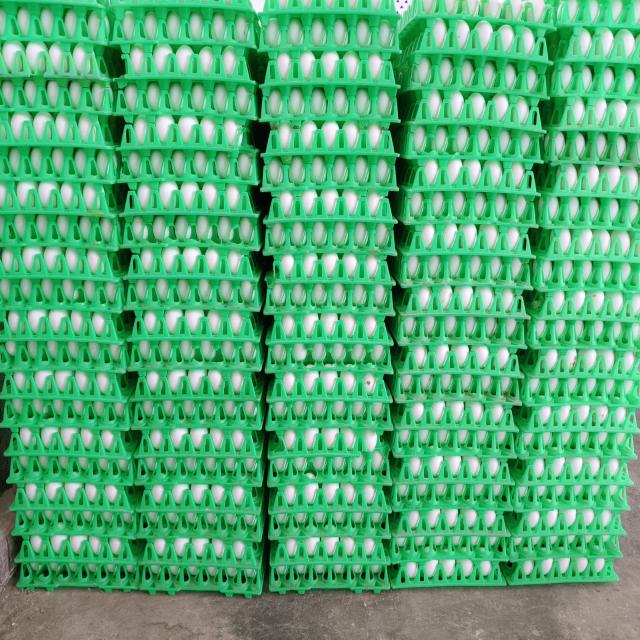egg_tray: (504, 24, 640, 583), (136, 278, 264, 595), (2, 211, 133, 502), (528, 60, 640, 348), (2, 243, 135, 481), (116, 3, 258, 223), (136, 359, 264, 595), (0, 140, 124, 370), (120, 116, 262, 308), (125, 190, 263, 370), (136, 400, 264, 594), (392, 124, 536, 293), (0, 80, 121, 281), (9, 399, 137, 589), (116, 45, 259, 213), (505, 404, 637, 582), (391, 401, 515, 586), (265, 190, 393, 369), (119, 84, 259, 244), (395, 129, 536, 284), (120, 116, 262, 266), (267, 371, 390, 540), (114, 2, 257, 147), (128, 278, 264, 428), (512, 349, 636, 512), (268, 427, 389, 590), (262, 49, 396, 195), (395, 89, 542, 222), (397, 2, 548, 131), (114, 3, 257, 138), (0, 147, 123, 301), (394, 153, 535, 287), (123, 181, 262, 316), (115, 75, 259, 205), (123, 182, 263, 311), (123, 181, 262, 310), (397, 2, 548, 118), (538, 59, 640, 230), (130, 299, 264, 428), (398, 2, 548, 116), (392, 373, 514, 513), (392, 373, 518, 508), (0, 180, 126, 313), (121, 150, 262, 268), (0, 246, 132, 372), (0, 83, 123, 217), (397, 0, 551, 107), (390, 452, 512, 587), (261, 2, 397, 123), (130, 309, 263, 430), (504, 456, 630, 583), (8, 416, 138, 537), (266, 189, 394, 311), (395, 119, 539, 226), (268, 190, 392, 313), (267, 360, 389, 485), (392, 400, 514, 525), (265, 253, 392, 370), (129, 280, 264, 390), (137, 479, 264, 595), (12, 476, 141, 590), (137, 479, 264, 594), (3, 370, 133, 481), (269, 472, 389, 592), (18, 533, 262, 592), (138, 479, 264, 593), (511, 399, 637, 513), (138, 479, 264, 592), (531, 165, 640, 294), (11, 479, 138, 589), (398, 89, 542, 186), (11, 479, 139, 587), (0, 202, 123, 313), (266, 367, 390, 477), (118, 114, 259, 210), (398, 1, 550, 90), (392, 399, 514, 509), (267, 368, 390, 477), (120, 120, 258, 217), (269, 254, 390, 364), (390, 477, 510, 587), (0, 206, 124, 312), (550, 2, 640, 138), (262, 109, 396, 200), (0, 78, 117, 182), (127, 278, 263, 367), (396, 94, 540, 176), (392, 316, 521, 403), (550, 2, 640, 126), (397, 39, 547, 113), (0, 308, 130, 391), (260, 51, 398, 129), (133, 368, 264, 450), (262, 116, 396, 196), (543, 58, 640, 165), (543, 64, 640, 169), (391, 222, 530, 294), (503, 503, 628, 583), (0, 298, 132, 373), (537, 163, 640, 259), (0, 37, 114, 121), (259, 0, 399, 68), (121, 185, 263, 252), (391, 400, 516, 476), (390, 507, 508, 587), (268, 368, 390, 445), (501, 508, 624, 584), (504, 506, 625, 582), (128, 308, 265, 375), (125, 246, 262, 313), (264, 189, 395, 258), (268, 305, 390, 379), (400, 0, 553, 59), (0, 2, 113, 79), (0, 140, 118, 213), (390, 284, 527, 346), (269, 471, 390, 540), (135, 425, 265, 489), (7, 421, 139, 484), (268, 474, 390, 542), (0, 2, 109, 78), (110, 0, 258, 55), (4, 370, 133, 433), (115, 78, 257, 135), (390, 343, 522, 403), (136, 482, 266, 542), (520, 340, 638, 406), (138, 536, 264, 597), (390, 399, 520, 458), (266, 313, 391, 373), (11, 480, 140, 538), (118, 38, 254, 93), (12, 478, 138, 537), (16, 533, 142, 591), (267, 427, 389, 486), (391, 451, 513, 510), (269, 252, 393, 310), (267, 368, 391, 426), (543, 97, 640, 171), (520, 348, 640, 406), (269, 535, 389, 593), (514, 404, 637, 460), (520, 348, 638, 406), (549, 4, 640, 79), (525, 291, 640, 350), (517, 402, 636, 459), (509, 456, 632, 511), (543, 94, 640, 163), (261, 79, 399, 127), (539, 163, 640, 226), (137, 304, 259, 356), (536, 177, 640, 238), (262, 149, 396, 195), (391, 532, 503, 587), (399, 157, 536, 201), (264, 270, 393, 315), (390, 537, 506, 586), (272, 362, 363, 420), (0, 178, 124, 220), (0, 74, 114, 119), (0, 0, 109, 46), (509, 537, 619, 582), (16, 484, 107, 533), (390, 551, 505, 588), (260, 0, 398, 28), (390, 557, 505, 588), (408, 345, 519, 374), (303, 435, 384, 474), (37, 421, 128, 454), (551, 130, 637, 164), (552, 0, 640, 33), (402, 344, 514, 369), (404, 456, 501, 475), (30, 215, 105, 238), (5, 371, 72, 388), (175, 219, 212, 242), (238, 221, 259, 250), (425, 125, 447, 150), (580, 4, 622, 17), (478, 375, 503, 395), (475, 0, 510, 13), (434, 345, 459, 363), (450, 126, 473, 145), (583, 321, 612, 336), (322, 283, 345, 301), (348, 283, 373, 299), (554, 233, 573, 254), (95, 290, 122, 304), (468, 94, 486, 115), (528, 379, 558, 391), (272, 437, 289, 458), (160, 344, 180, 361), (56, 114, 70, 138), (472, 346, 496, 360), (35, 372, 53, 390), (187, 369, 206, 386), (574, 62, 597, 76), (562, 383, 578, 402), (14, 281, 36, 294), (583, 3, 612, 12), (22, 41, 42, 54), (282, 460, 299, 475), (15, 426, 36, 438), (558, 3, 579, 15), (88, 377, 106, 390), (618, 171, 633, 186), (345, 78, 361, 92), (369, 371, 381, 389), (168, 370, 186, 382), (510, 543, 521, 562), (148, 128, 164, 141), (489, 95, 506, 107), (311, 314, 326, 327), (155, 152, 171, 164), (356, 401, 368, 417), (28, 391, 42, 404), (217, 228, 230, 242), (76, 372, 88, 387), (244, 147, 255, 163), (369, 260, 385, 271), (54, 371, 70, 382), (180, 343, 189, 362), (101, 505, 110, 524), (153, 116, 170, 126), (556, 73, 570, 85), (25, 484, 36, 499), (627, 354, 636, 372), (480, 3, 500, 11), (35, 114, 47, 127), (74, 372, 88, 383), (184, 436, 195, 450), (176, 280, 190, 291), (410, 119, 424, 130), (182, 124, 190, 143), (138, 334, 148, 349), (561, 538, 573, 550), (174, 151, 184, 165), (452, 2, 466, 12), (158, 281, 167, 296), (151, 190, 160, 205), (47, 149, 56, 164), (83, 291, 95, 301), (206, 437, 216, 449), (580, 539, 590, 551), (155, 281, 167, 291), (400, 131, 415, 139), (207, 371, 220, 380), (394, 373, 402, 387), (211, 429, 221, 440), (195, 152, 206, 162), (411, 197, 420, 209), (24, 142, 33, 154), (178, 247, 193, 254), (407, 351, 415, 364), (569, 378, 582, 386), (125, 121, 138, 129), (61, 455, 71, 465), (448, 175, 458, 185), (528, 537, 539, 546), (136, 282, 145, 293), (93, 144, 104, 153), (569, 167, 577, 179), (406, 171, 414, 183), (128, 131, 136, 143), (171, 440, 181, 449), (155, 131, 164, 141), (51, 42, 60, 52), (502, 377, 517, 383), (234, 372, 244, 381), (315, 299, 323, 310), (205, 281, 216, 289), (47, 82, 59, 89), (564, 331, 576, 338), (115, 374, 122, 386), (17, 215, 24, 227), (605, 67, 621, 72), (550, 538, 558, 548), (211, 429, 219, 439), (599, 247, 609, 255), (423, 374, 436, 380), (460, 375, 473, 381), (140, 116, 147, 127), (197, 434, 202, 449), (382, 286, 390, 295), (512, 546, 520, 555), (472, 138, 481, 146), (206, 281, 215, 289), (232, 258, 238, 270), (376, 440, 384, 449), (7, 399, 16, 407), (503, 471, 510, 481), (188, 317, 198, 324), (188, 158, 195, 168), (525, 3, 532, 13), (48, 491, 55, 501), (69, 157, 76, 167), (16, 440, 23, 450), (119, 5, 130, 11), (459, 141, 465, 152), (42, 281, 50, 289), (8, 397, 16, 405), (184, 183, 192, 191), (405, 375, 413, 383), (147, 371, 155, 379), (181, 5, 188, 14), (490, 107, 497, 116), (137, 292, 144, 301), (420, 347, 427, 356), (361, 390, 368, 399), (604, 169, 616, 174), (498, 516, 503, 528), (283, 256, 293, 262), (59, 311, 65, 321), (2, 289, 9, 297), (177, 280, 184, 288), (405, 375, 413, 382), (178, 462, 185, 470), (502, 3, 509, 11), (491, 264, 499, 271), (368, 299, 373, 310), (63, 8, 74, 13), (546, 239, 551, 250), (161, 6, 170, 12), (184, 134, 190, 143), (155, 218, 161, 227), (516, 132, 522, 141), (228, 135, 234, 144), (136, 125, 141, 135), (201, 292, 208, 299), (614, 323, 621, 330), (349, 15, 356, 22), (357, 345, 365, 351), (598, 563, 604, 571), (0, 56, 6, 64), (540, 553, 548, 559), (170, 124, 178, 130), (136, 281, 142, 289), (162, 225, 168, 233), (492, 511, 496, 523), (367, 328, 372, 337), (84, 122, 93, 127), (292, 285, 296, 296), (188, 123, 199, 127), (123, 132, 127, 143), (81, 460, 88, 466), (2, 290, 8, 297), (163, 465, 169, 472), (468, 146, 475, 152), (415, 145, 421, 152), (109, 495, 115, 502), (50, 126, 56, 133), (598, 166, 604, 173), (244, 229, 251, 235), (30, 190, 37, 196), (243, 30, 248, 38), (54, 5, 62, 10), (151, 152, 156, 160), (572, 248, 576, 258), (352, 450, 360, 455), (274, 10, 282, 15), (397, 374, 402, 382), (331, 379, 335, 388), (576, 321, 582, 327), (64, 294, 70, 300), (442, 130, 446, 139), (523, 140, 529, 146), (561, 172, 567, 178), (464, 345, 468, 354), (372, 363, 378, 369), (24, 291, 29, 298), (524, 554, 531, 559), (514, 361, 517, 372), (602, 86, 606, 94), (556, 320, 564, 324), (6, 252, 10, 260), (182, 183, 190, 187), (127, 569, 135, 573), (299, 411, 304, 417), (245, 23, 250, 29), (325, 331, 330, 337), (483, 84, 488, 90), (494, 539, 499, 545), (38, 299, 42, 306), (330, 327, 334, 334), (504, 349, 508, 356), (222, 206, 229, 210), (562, 67, 566, 74), (284, 264, 288, 271), (528, 136, 531, 145), (292, 469, 297, 474), (32, 85, 37, 90), (579, 567, 584, 572), (381, 262, 386, 267), (59, 133, 64, 138), (534, 131, 539, 136), (254, 305, 259, 310), (34, 407, 39, 412), (388, 33, 393, 38), (132, 86, 137, 91), (278, 558, 283, 563), (286, 349, 291, 354), (612, 174, 617, 179), (205, 392, 210, 397), (602, 79, 606, 85), (54, 295, 60, 299), (69, 83, 73, 89), (251, 465, 255, 471), (287, 316, 293, 320), (180, 124, 184, 130), (286, 331, 290, 337), (40, 55, 44, 61), (533, 538, 537, 544), (440, 3, 444, 9), (125, 508, 131, 512), (622, 166, 630, 169), (82, 154, 86, 160), (461, 287, 469, 290), (562, 86, 568, 90), (34, 57, 37, 65), (96, 374, 103, 377), (39, 383, 46, 386), (118, 531, 125, 534), (185, 294, 192, 297), (301, 453, 304, 460), (394, 538, 397, 545), (257, 394, 261, 399), (458, 21, 463, 25), (185, 469, 190, 473), (551, 540, 556, 544), (471, 130, 476, 134), (624, 9, 629, 13), (142, 122, 147, 126), (136, 282, 140, 287), (36, 114, 41, 118), (252, 238, 256, 243), (421, 274, 426, 278), (531, 130, 536, 134), (390, 71, 392, 81), (438, 393, 442, 398), (572, 63, 578, 66), (57, 419, 60, 425), (570, 326, 576, 329), (504, 25, 510, 28), (161, 183, 167, 186), (634, 390, 637, 396), (629, 5, 632, 11), (158, 302, 164, 305), (603, 236, 606, 242), (106, 158, 109, 164), (250, 206, 253, 212), (40, 183, 46, 186), (132, 558, 135, 564), (583, 211, 586, 217), (138, 404, 144, 407), (54, 401, 62, 403), (189, 353, 193, 357), (140, 341, 144, 345), (584, 86, 588, 90), (558, 7, 562, 11), (209, 433, 213, 437), (522, 106, 524, 114), (419, 137, 423, 141), (47, 485, 51, 489), (390, 25, 394, 29), (305, 123, 313, 125), (166, 129, 168, 137), (34, 322, 36, 330), (520, 283, 528, 285), (470, 274, 474, 278), (372, 43, 376, 47), (306, 17, 310, 21), (607, 139, 610, 144), (633, 65, 636, 70), (208, 282, 211, 287), (316, 403, 319, 408), (228, 186, 231, 191), (172, 133, 175, 138), (431, 76, 436, 79), (143, 249, 148, 252), (54, 407, 57, 412), (133, 233, 138, 236), (172, 134, 175, 139), (572, 354, 575, 359), (514, 282, 517, 287), (476, 265, 479, 270), (494, 145, 497, 150), (528, 138, 531, 143), (539, 16, 544, 19), (536, 322, 543, 324), (633, 77, 635, 84), (542, 4, 544, 11), (159, 371, 163, 374), (194, 282, 198, 285), (46, 295, 49, 299), (176, 441, 179, 445), (165, 442, 168, 446), (386, 347, 388, 353), (313, 295, 317, 298), (170, 329, 173, 333), (574, 549, 577, 553), (529, 542, 532, 546), (510, 150, 513, 154), (503, 149, 506, 153), (530, 25, 534, 28), (440, 73, 442, 79), (631, 285, 634, 289), (179, 86, 181, 92), (171, 125, 177, 127), (68, 371, 72, 374), (94, 126, 97, 130), (26, 114, 30, 117), (607, 140, 611, 143), (119, 93, 122, 97), (231, 206, 234, 210), (54, 329, 58, 332), (76, 201, 80, 204), (556, 86, 559, 90), (108, 226, 112, 229), (289, 55, 292, 59), (96, 154, 97, 165), (417, 379, 422, 381), (204, 461, 206, 466), (386, 268, 388, 273), (492, 147, 494, 152), (183, 116, 188, 118), (62, 161, 64, 166), (156, 95, 158, 100), (167, 94, 169, 99), (200, 223, 202, 228), (29, 59, 31, 64), (281, 43, 286, 45), (360, 389, 362, 394), (378, 353, 383, 355), (293, 350, 295, 355), (423, 376, 428, 378), (25, 292, 28, 295), (64, 256, 67, 259), (189, 463, 192, 466), (15, 134, 18, 137), (426, 147, 429, 150), (541, 16, 544, 19), (48, 116, 51, 119), (236, 238, 239, 241), (137, 224, 140, 227), (205, 232, 208, 235), (212, 220, 215, 223), (13, 219, 16, 222), (378, 434, 381, 437), (612, 186, 615, 189), (14, 374, 17, 377), (390, 220, 392, 224), (41, 87, 43, 91), (316, 371, 318, 375), (289, 371, 293, 373), (10, 268, 14, 270), (402, 364, 406, 366), (458, 203, 462, 205), (436, 133, 438, 137), (69, 54, 71, 58), (600, 545, 602, 549), (626, 13, 628, 17), (109, 530, 113, 532), (180, 293, 182, 297), (101, 87, 103, 91), (411, 347, 415, 349), (190, 221, 192, 225), (400, 140, 402, 144), (499, 516, 501, 520), (514, 387, 516, 391), (368, 318, 375, 319), (552, 156, 555, 158), (583, 150, 586, 152), (551, 93, 553, 96), (353, 389, 355, 392), (207, 304, 210, 306), (102, 295, 104, 298), (6, 273, 9, 275), (619, 3, 622, 5), (458, 130, 461, 132), (250, 27, 252, 30), (199, 3, 201, 6), (0, 193, 2, 196), (352, 316, 354, 319), (405, 98, 408, 100), (75, 131, 77, 134), (215, 260, 217, 263), (192, 329, 195, 331), (137, 313, 140, 315), (212, 158, 214, 161), (510, 557, 513, 559), (586, 398, 588, 401), (110, 479, 113, 481), (40, 268, 43, 270), (159, 117, 162, 119), (68, 431, 74, 432), (221, 282, 224, 284), (17, 400, 20, 402), (592, 170, 594, 173), (551, 149, 553, 152), (384, 36, 387, 38), (12, 145, 14, 148), (469, 287, 472, 289), (125, 116, 127, 119), (207, 187, 209, 190), (31, 200, 33, 203), (364, 449, 367, 451), (352, 443, 355, 445), (310, 584, 312, 587), (344, 583, 346, 586), (361, 387, 363, 390), (274, 238, 277, 240), (98, 374, 104, 375), (123, 172, 126, 174), (12, 300, 17, 301), (504, 462, 505, 467), (120, 284, 121, 289), (628, 141, 633, 142), (176, 238, 181, 239), (631, 68, 632, 73), (274, 18, 279, 19), (129, 549, 134, 550), (38, 296, 40, 298), (77, 421, 79, 423), (158, 282, 160, 284), (67, 93, 68, 97), (317, 415, 319, 417), (529, 326, 531, 328), (33, 281, 35, 283), (423, 36, 425, 38), (401, 206, 402, 210), (222, 458, 224, 460), (521, 102, 523, 104), (178, 137, 180, 139), (362, 309, 366, 310), (23, 7, 25, 9), (496, 131, 500, 132), (523, 85, 525, 87), (536, 2, 540, 3), (537, 150, 538, 154), (192, 355, 194, 357), (593, 17, 595, 19), (8, 253, 10, 255), (51, 122, 53, 124), (587, 169, 588, 173), (385, 29, 387, 31), (408, 531, 410, 533), (513, 327, 515, 329), (94, 197, 95, 201), (237, 257, 239, 259), (175, 229, 177, 231), (212, 221, 214, 223), (572, 459, 576, 460), (190, 250, 192, 252), (222, 239, 224, 241), (205, 237, 207, 239), (200, 231, 202, 233), (103, 220, 105, 222), (434, 265, 438, 266), (534, 126, 538, 127), (318, 453, 320, 455), (346, 584, 348, 586), (376, 85, 380, 86), (420, 379, 422, 381), (28, 374, 30, 376), (41, 289, 42, 292), (7, 393, 8, 396), (310, 292, 313, 293), (575, 3, 578, 4), (55, 329, 58, 330), (22, 380, 23, 383), (151, 445, 152, 448), (154, 436, 155, 439), (177, 431, 180, 432), (516, 103, 517, 106), (563, 578, 566, 579), (278, 318, 281, 319), (326, 309, 329, 310), (325, 268, 326, 271), (149, 329, 152, 330), (526, 3, 529, 4), (221, 283, 224, 284), (534, 249, 535, 252), (198, 249, 199, 252), (98, 86, 101, 87), (395, 37, 396, 40), (410, 531, 413, 532), (467, 509, 468, 512), (167, 267, 170, 268), (538, 132, 541, 133), (98, 329, 101, 330), (459, 176, 462, 177), (603, 40, 604, 43), (435, 553, 438, 554), (354, 362, 357, 363), (316, 255, 317, 258), (298, 9, 299, 12), (218, 134, 219, 137), (611, 151, 613, 152), (638, 54, 640, 55), (638, 45, 640, 46), (24, 401, 26, 402), (181, 351, 182, 353), (201, 281, 203, 282), (278, 231, 279, 233), (268, 231, 269, 233), (272, 227, 273, 229), (100, 107, 102, 108), (27, 81, 29, 82), (310, 381, 311, 383), (306, 305, 308, 306), (307, 298, 308, 300), (75, 295, 76, 297), (618, 80, 620, 81), (434, 394, 436, 395), (165, 205, 167, 206), (156, 195, 157, 197), (158, 454, 159, 456), (272, 347, 274, 348), (285, 317, 286, 319), (306, 316, 308, 317), (402, 100, 404, 101), (574, 576, 576, 577), (161, 127, 162, 129), (162, 125, 164, 126), (282, 309, 284, 310), (125, 132, 126, 134), (520, 576, 522, 577), (545, 572, 546, 574), (524, 554, 526, 555), (476, 150, 477, 152), (476, 6, 477, 8), (534, 549, 536, 550), (527, 398, 529, 399), (194, 118, 196, 119), (238, 288, 239, 290), (223, 282, 224, 284), (172, 278, 174, 279), (51, 431, 53, 432), (196, 283, 197, 285), (18, 409, 20, 410), (80, 122, 82, 123), (56, 160, 57, 162), (89, 151, 91, 152), (55, 145, 57, 146), (104, 480, 106, 481), (131, 451, 132, 453), (318, 61, 320, 62), (180, 185, 182, 186), (154, 234, 156, 235), (129, 233, 131, 234), (221, 229, 222, 231), (244, 207, 246, 208), (222, 198, 224, 199), (139, 125, 141, 126), (152, 119, 153, 121), (50, 201, 51, 203), (96, 194, 97, 196), (596, 402, 598, 403), (14, 226, 15, 228), (612, 187, 614, 188), (432, 275, 433, 277), (385, 471, 386, 473), (349, 584, 350, 586), (610, 78, 612, 79), (578, 72, 579, 74), (376, 18, 378, 19), (294, 10, 295, 12), (284, 9, 286, 10), (294, 7, 295, 9), (67, 313, 68, 315), (50, 311, 52, 312), (167, 413, 168, 415), (60, 291, 61, 292), (69, 385, 70, 386), (29, 89, 30, 90), (76, 83, 77, 84), (25, 83, 26, 84), (556, 332, 557, 333), (107, 278, 108, 279), (633, 456, 634, 457), (185, 20, 186, 21), (253, 14, 254, 15), (174, 467, 175, 468), (322, 345, 323, 346), (405, 102, 406, 103), (609, 578, 610, 579), (381, 274, 382, 275), (518, 543, 519, 544), (596, 25, 597, 26), (87, 524, 88, 525), (27, 505, 28, 506), (190, 129, 191, 130), (167, 254, 168, 255), (205, 238, 206, 239), (58, 157, 59, 158), (89, 145, 90, 146), (36, 143, 37, 144), (421, 357, 422, 358), (21, 141, 22, 142), (245, 167, 246, 168), (585, 516, 586, 517), (516, 478, 517, 479), (138, 201, 139, 202), (584, 87, 585, 88), (629, 34, 630, 35), (127, 476, 128, 477), (462, 189, 463, 190), (461, 185, 462, 186), (580, 238, 581, 239), (449, 258, 450, 259), (427, 127, 428, 128), (356, 469, 357, 470), (345, 467, 346, 468), (296, 458, 297, 459), (338, 447, 339, 448), (192, 49, 193, 50), (340, 396, 341, 397), (365, 402, 366, 403), (358, 387, 359, 388), (274, 367, 275, 368), (383, 311, 384, 312), (323, 198, 324, 199), (582, 93, 583, 94), (265, 18, 266, 19), (520, 3, 521, 4), (203, 243, 204, 244), (9, 411, 10, 412), (234, 378, 235, 379), (218, 132, 219, 133), (623, 156, 623, 157), (632, 151, 632, 152), (227, 394, 228, 394), (170, 394, 170, 394), (183, 354, 183, 354), (138, 337, 140, 337), (310, 400, 310, 401), (312, 394, 312, 394), (287, 383, 288, 383), (301, 296, 301, 297), (300, 292, 302, 292), (316, 286, 317, 286), (301, 130, 301, 130), (96, 283, 97, 283), (283, 291, 283, 292), (210, 205, 210, 205), (187, 205, 189, 205), (186, 23, 188, 23), (154, 7, 154, 7), (220, 5, 223, 5), (252, 448, 252, 449), (78, 309, 80, 309), (7, 183, 10, 183), (381, 347, 381, 348), (370, 347, 370, 348), (470, 112, 470, 113), (456, 111, 456, 112), (570, 574, 570, 575), (610, 567, 610, 568), (132, 136, 132, 137), (308, 336, 308, 336), (352, 332, 352, 332), (373, 330, 374, 330), (334, 323, 334, 324), (321, 297, 322, 297), (383, 294, 383, 296), (316, 292, 318, 292), (330, 265, 330, 266), (52, 53, 52, 54), (65, 417, 66, 417), (577, 554, 582, 554), (561, 554, 565, 554), (530, 549, 530, 550), (616, 541, 616, 541), (534, 148, 534, 150), (463, 141, 465, 141), (547, 363, 548, 363), (227, 301, 230, 301), (141, 296, 141, 297), (590, 24, 590, 26), (628, 8, 628, 8), (10, 274, 10, 275), (74, 267, 74, 268), (36, 212, 36, 213), (136, 125, 136, 125), (250, 367, 254, 367), (234, 252, 237, 252), (334, 203, 334, 206), (46, 445, 48, 445), (36, 401, 39, 401), (103, 374, 103, 374), (4, 341, 4, 341), (120, 323, 121, 323), (614, 178, 614, 179), (390, 42, 390, 43), (54, 165, 54, 170), (398, 534, 399, 534), (449, 532, 450, 532), (404, 523, 406, 523), (403, 521, 403, 521), (514, 321, 514, 322), (52, 238, 52, 239), (240, 163, 242, 163), (236, 154, 237, 154), (232, 152, 232, 154), (604, 461, 606, 461), (594, 459, 596, 459), (228, 234, 228, 234), (126, 230, 126, 230), (191, 221, 192, 221), (128, 221, 128, 222), (232, 138, 232, 140), (181, 134, 181, 136), (134, 132, 134, 132), (22, 183, 23, 183), (89, 245, 90, 245), (98, 234, 100, 234), (94, 234, 94, 235), (576, 168, 576, 169), (586, 351, 586, 352), (486, 274, 488, 274), (526, 270, 526, 271), (438, 266, 440, 266), (494, 261, 494, 261), (459, 258, 459, 259), (538, 132, 539, 132), (450, 554, 450, 555), (370, 456, 370, 457), (328, 435, 328, 437), (328, 432, 328, 433), (305, 431, 305, 432), (405, 50, 405, 50), (292, 90, 292, 90), (323, 85, 323, 85), (336, 54, 337, 54), (459, 452, 459, 453), (582, 72, 584, 72), (288, 54, 288, 55), (287, 14, 288, 14), (489, 390, 490, 390), (54, 321, 56, 321), (170, 403, 172, 403), (214, 385, 214, 385)
